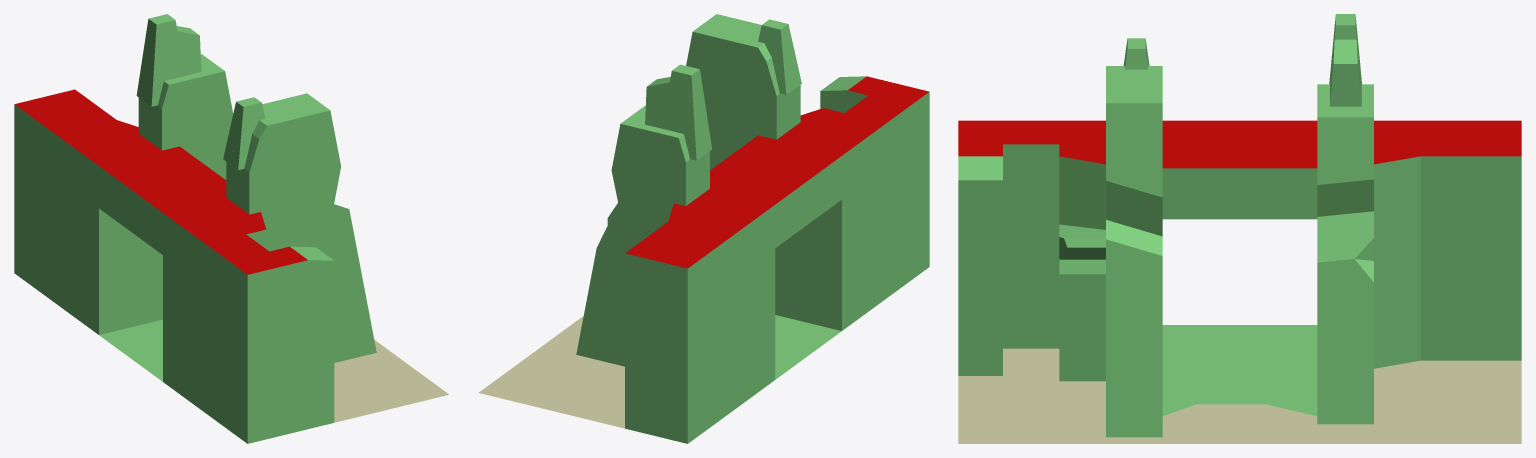
Rendered from x_oo_ground_25_wall_cave_entrance1_rmstrd.fbx.
The picture shows the model from 3 angles, left to right: view 1: azimuth 30°, elevation 25°; view 2: azimuth 150°, elevation 25°; view 3: azimuth 270°, elevation 25°; orthographic projection. The views are drawn at different scales.
Visible parts, largest first — view 1: x_oo_ground_25_wall_cave_entrance1_rmstrd1; view 2: x_oo_ground_25_wall_cave_entrance1_rmstrd1; view 3: x_oo_ground_25_wall_cave_entrance1_rmstrd1.
Part boxes in pixels (bbox=[...]): x_oo_ground_25_wall_cave_entrance1_rmstrd1: bbox=[14, 14, 448, 443]; x_oo_ground_25_wall_cave_entrance1_rmstrd1: bbox=[478, 14, 929, 443]; x_oo_ground_25_wall_cave_entrance1_rmstrd1: bbox=[958, 14, 1521, 443].
Bounding box in the file's own units: 5 × 6.84 × 10.
